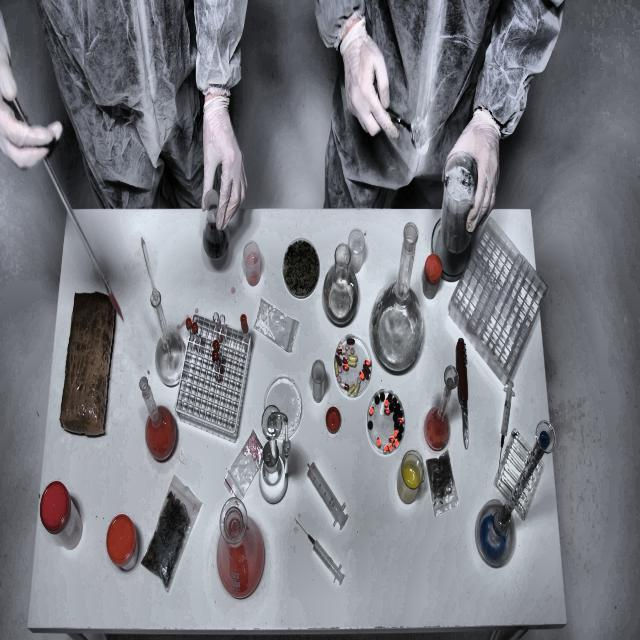gloved: (0, 19, 74, 182), (329, 12, 402, 150), (198, 88, 258, 249), (444, 90, 503, 239)
